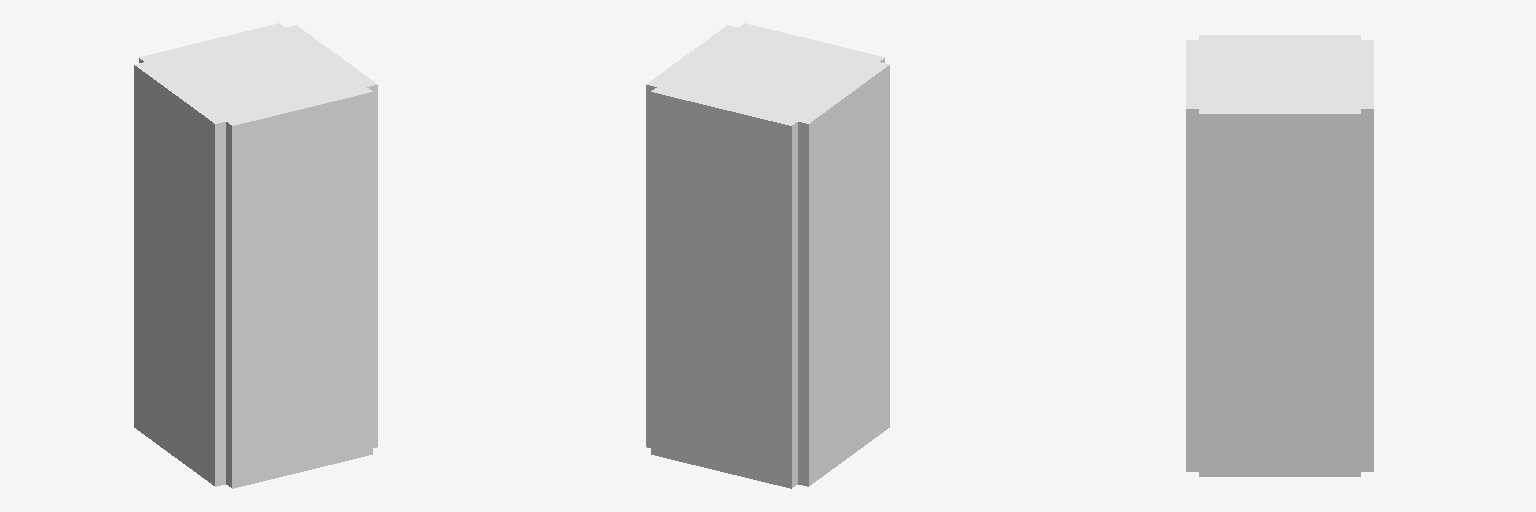
File: MazeBlock_norm_03.obj
3 renders of one model, left to right at view 1: azimuth 30°, elevation 25°; view 2: azimuth 150°, elevation 25°; view 3: azimuth 270°, elevation 25°, orthographic.
Visible parts, largest first — view 1: object 1; view 2: object 1; view 3: object 1.
Boxes of the visible parts, x1,y1,x2,y2 form: object 1: [134, 23, 377, 488]; object 1: [646, 23, 889, 488]; object 1: [1186, 35, 1373, 476].
Bounding box in the file's own units: 1.5 × 3.2 × 1.5.